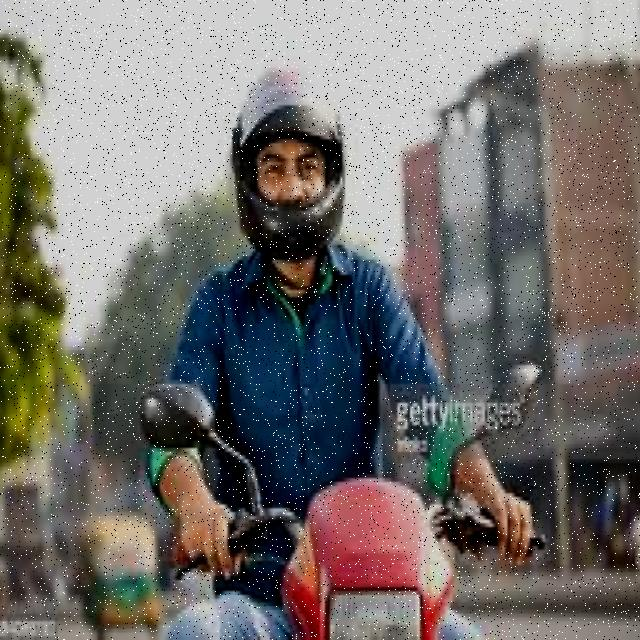not_triplets: (85, 11, 550, 640)
with-helmet: (230, 60, 355, 264)
